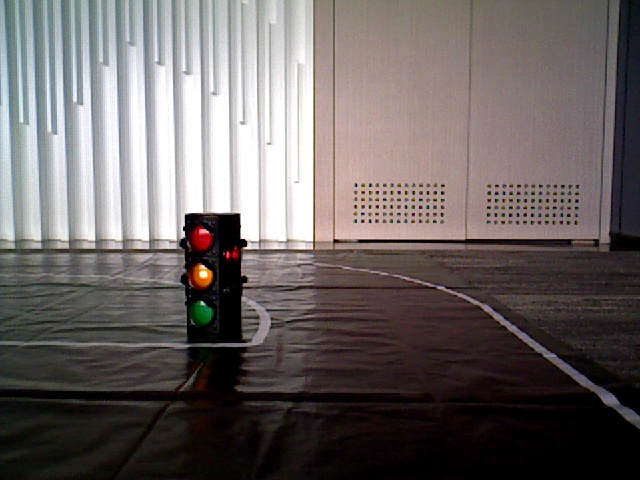yellow: (185, 216, 222, 331)
